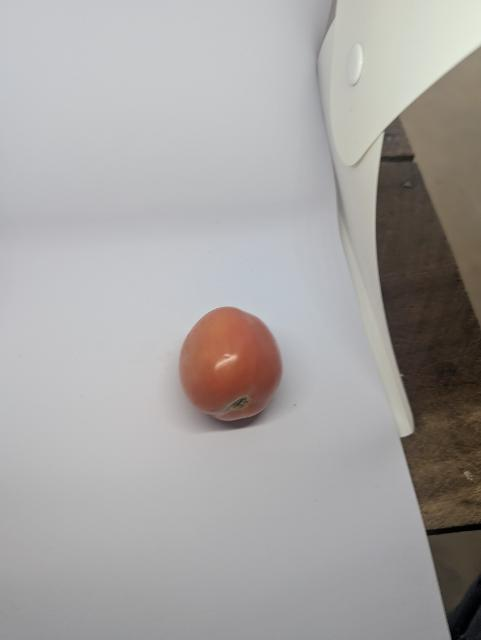red: (161, 289, 317, 448)
